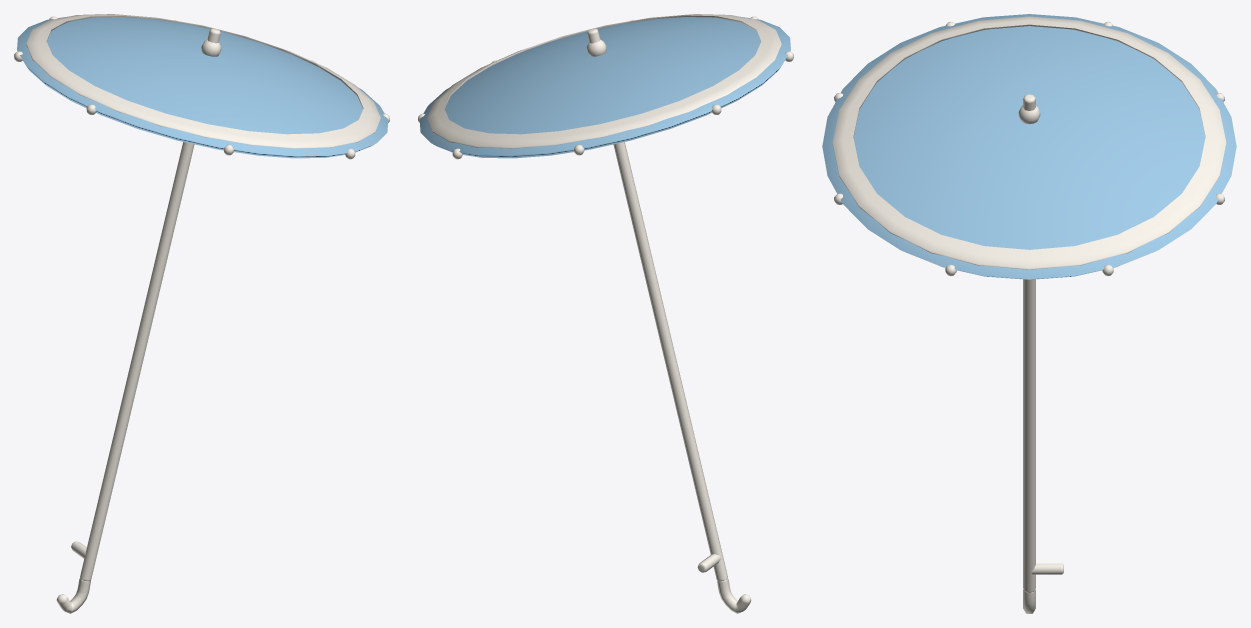
Rendered from blue_shiny_bows_parasol.glb.
3 renders of one model, left to right at view 1: azimuth 30°, elevation 25°; view 2: azimuth 150°, elevation 25°; view 3: azimuth 270°, elevation 25°, orthographic. The views are drawn at different scales.
Parts seen in each view (by area): view 1: blue_shiny_bows_parasol_ArmR; view 2: blue_shiny_bows_parasol_ArmR; view 3: blue_shiny_bows_parasol_ArmR.
Boxes of the visible parts, bbox=[...] form: blue_shiny_bows_parasol_ArmR: bbox=[14, 14, 389, 613]; blue_shiny_bows_parasol_ArmR: bbox=[418, 14, 793, 613]; blue_shiny_bows_parasol_ArmR: bbox=[822, 14, 1236, 613].
Bounding box in the file's own units: 0.8703 × 1.42 × 0.9.
